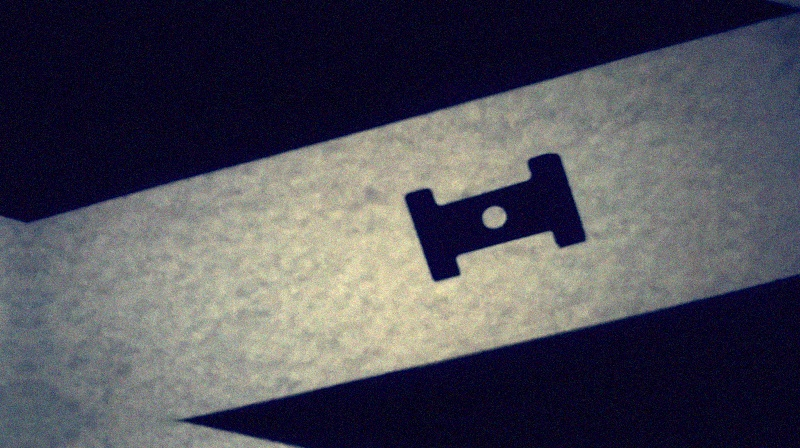O002: (398, 150, 586, 283)
